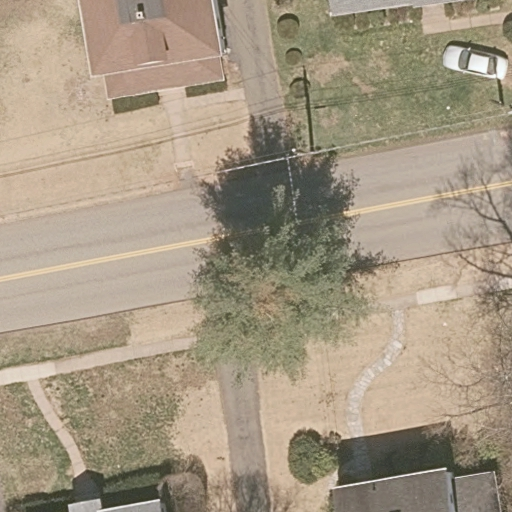DT: (286, 145, 317, 166)
